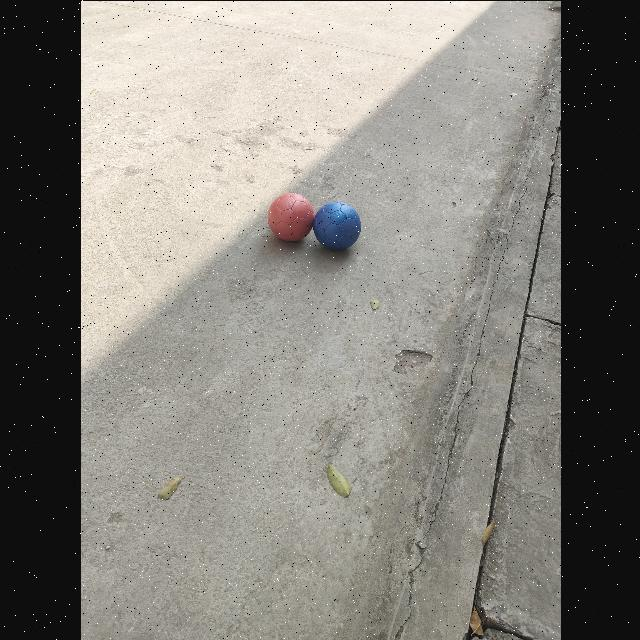B: (313, 200, 361, 249)
R: (266, 192, 313, 240)
